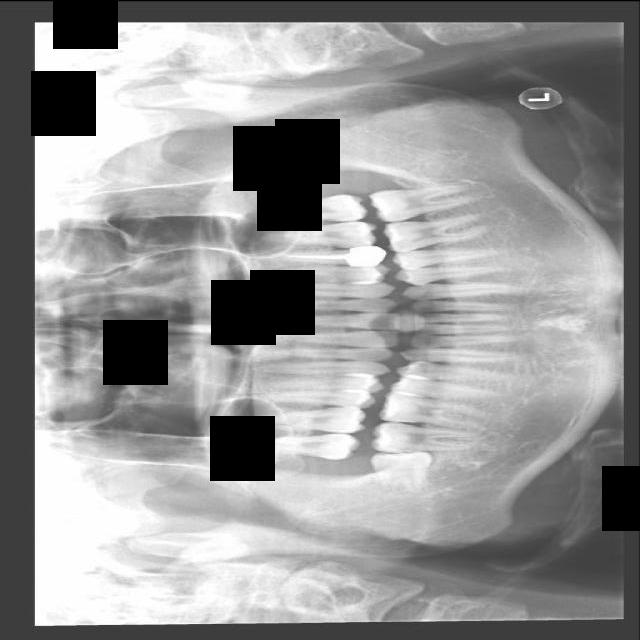52: (339, 245, 388, 266)
73: (269, 250, 343, 264), (586, 40, 598, 48)
BioHorizons Implant: (263, 188, 370, 223)
Blue Sky Bio Implant: (368, 182, 477, 223)
Caries: (259, 432, 360, 458)
Implant: (371, 418, 476, 453)
Keystone Dental Implant: (370, 450, 432, 492)
